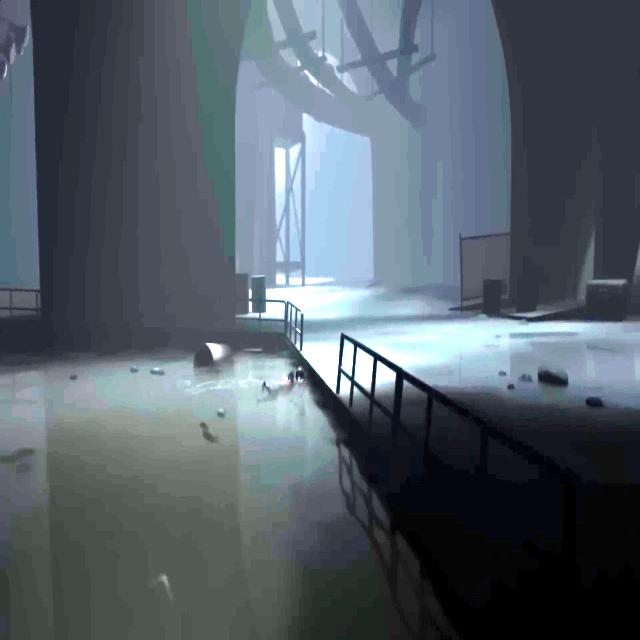boy: (260, 366, 306, 404)
structure: (334, 328, 640, 636), (0, 284, 305, 351)
